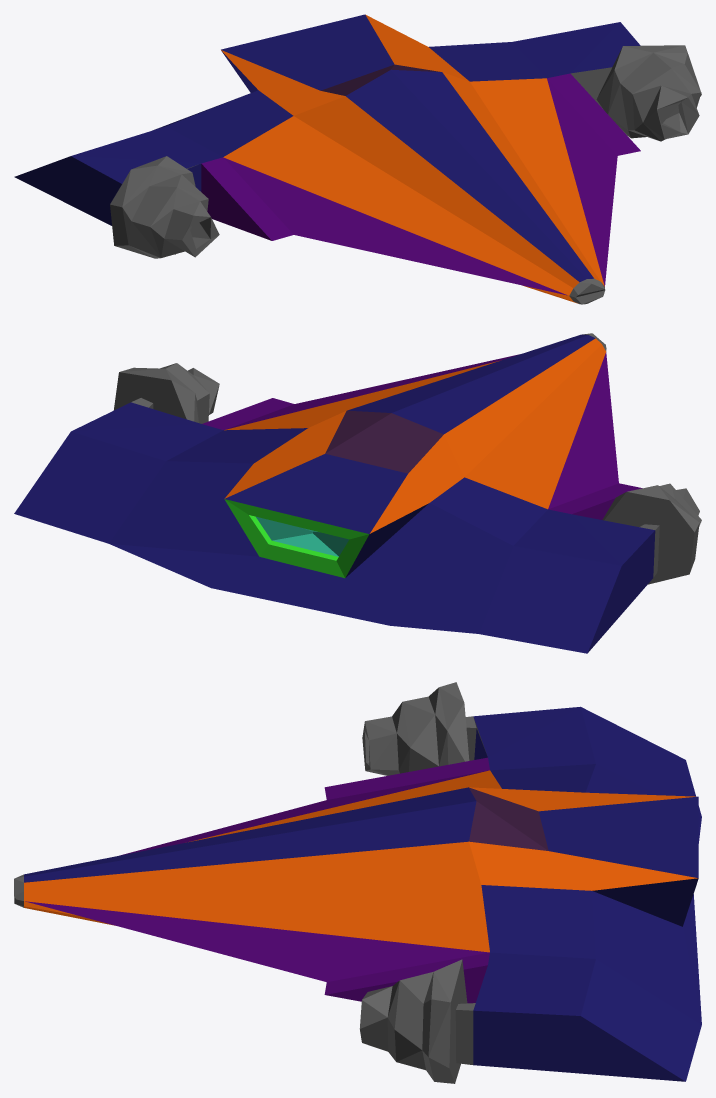
The model's file is SpaceShipLV4.fbx.
3 views of the same model, one above another, from view 1: azimuth 30°, elevation 25°; view 2: azimuth 150°, elevation 25°; view 3: azimuth 270°, elevation 25° (orthographic). The views are drawn at different scales.
Parts seen in each view (by area): view 1: Cone; view 2: Cone; view 3: Cone.
Part boxes in pixels (<box>): Cone: <box>14,14,701,304</box>; Cone: <box>14,333,701,653</box>; Cone: <box>14,682,701,1083</box>.
Size of the model in its own units: 512 by 131 by 455.
